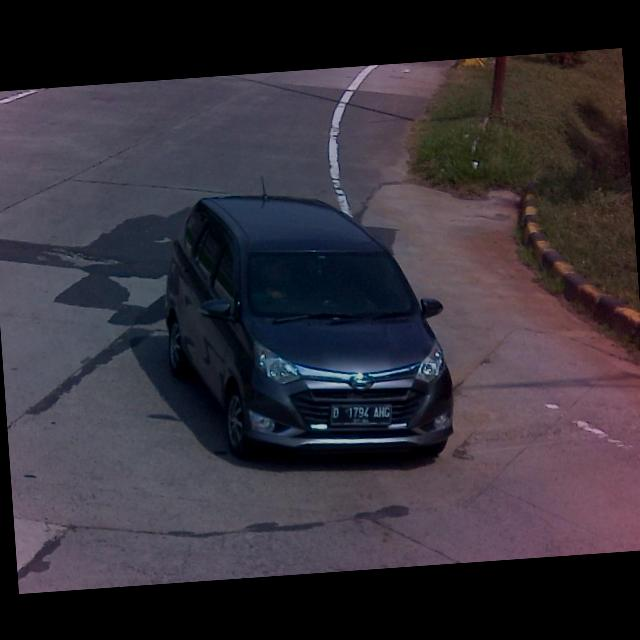plate: (328, 397, 393, 428)
